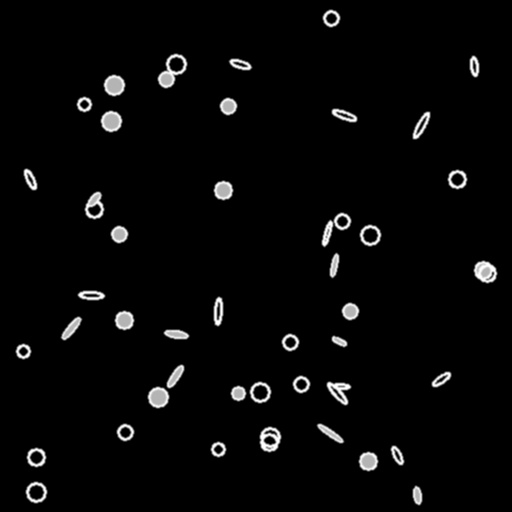pseudomonas: (411, 111, 431, 139), (326, 381, 348, 405), (60, 316, 82, 340), (317, 423, 343, 443), (165, 364, 185, 388), (332, 108, 356, 122), (431, 371, 451, 387), (86, 190, 102, 208), (321, 221, 333, 245), (390, 445, 404, 465), (23, 169, 37, 189), (229, 58, 251, 70), (329, 253, 339, 277), (164, 329, 188, 339), (214, 297, 222, 325), (78, 291, 104, 299), (331, 335, 347, 347), (470, 56, 478, 76), (412, 487, 422, 503), (333, 383, 349, 389)
synechocystis: (102, 112, 120, 130), (105, 76, 123, 94), (251, 383, 269, 401), (149, 388, 167, 406), (361, 226, 379, 244), (167, 55, 185, 73), (261, 428, 279, 446), (27, 483, 45, 501), (475, 262, 491, 278), (215, 182, 231, 198), (116, 312, 132, 328), (449, 171, 465, 187), (479, 265, 495, 281), (360, 453, 376, 469), (261, 434, 277, 450), (86, 201, 102, 217), (28, 449, 44, 465), (112, 227, 126, 241), (343, 304, 357, 318), (118, 425, 132, 439), (294, 377, 308, 391), (159, 72, 173, 86), (221, 99, 235, 113), (283, 335, 297, 349), (335, 214, 349, 228), (324, 11, 338, 25), (17, 345, 29, 357), (232, 387, 244, 399), (212, 443, 224, 455), (78, 98, 90, 110)
